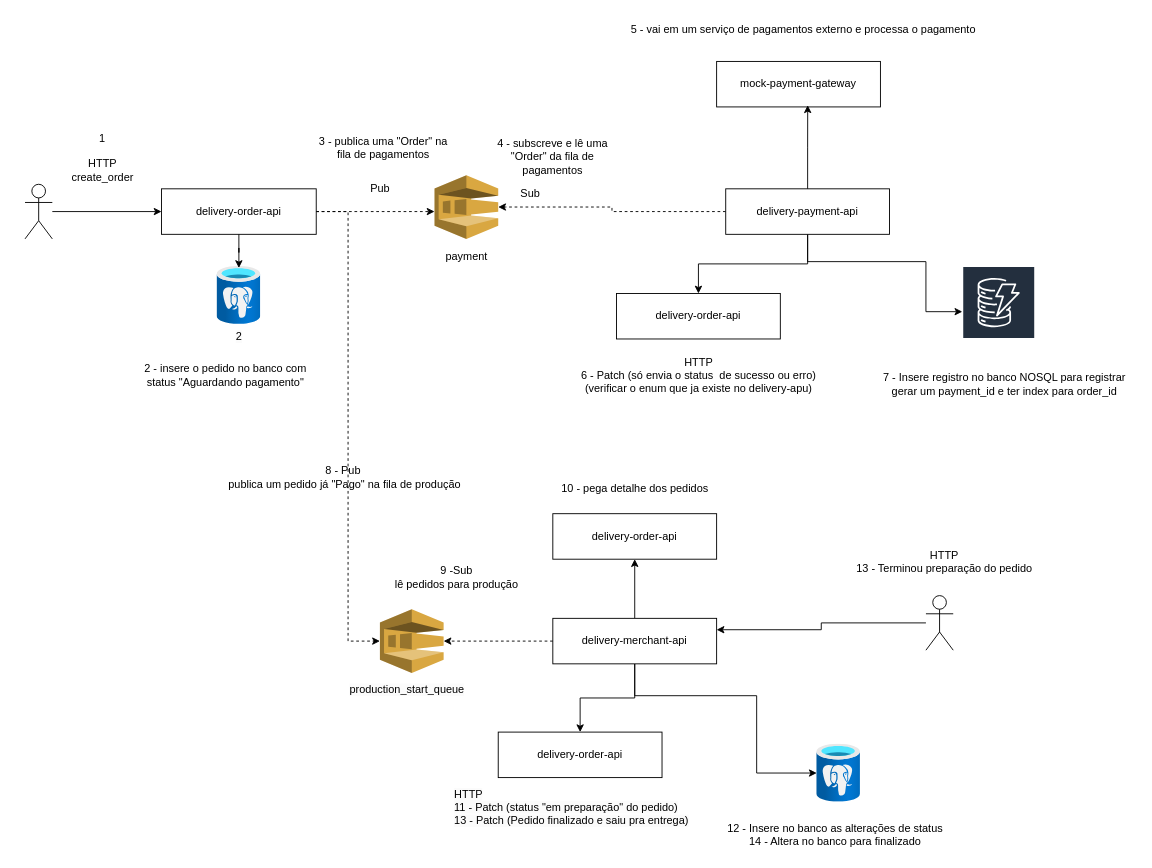
Image size: 1152x868. Some labels were removed from this diagram. The box of each missing label's shape, as (x1, y1, x2, y2) in pixels:
Amazon DynamoDB: (961, 265, 1035, 366)
CLIENTE: (24, 183, 52, 239)
Merchant: (925, 595, 953, 650)
